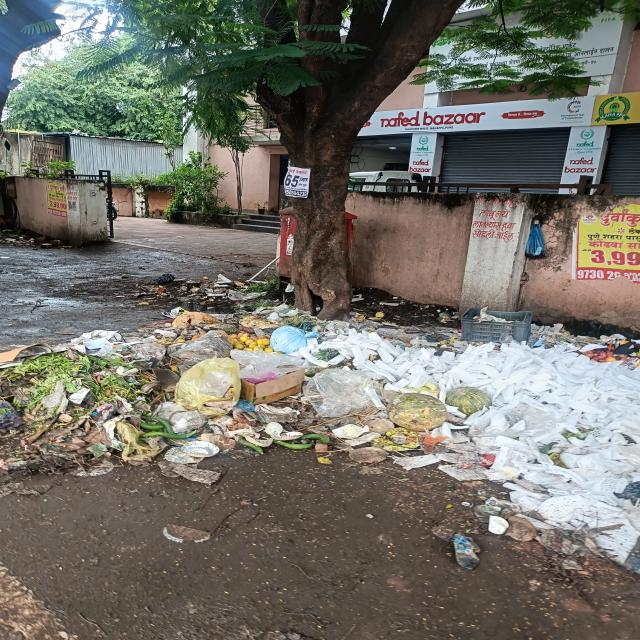garbage: (13, 302, 640, 551)
